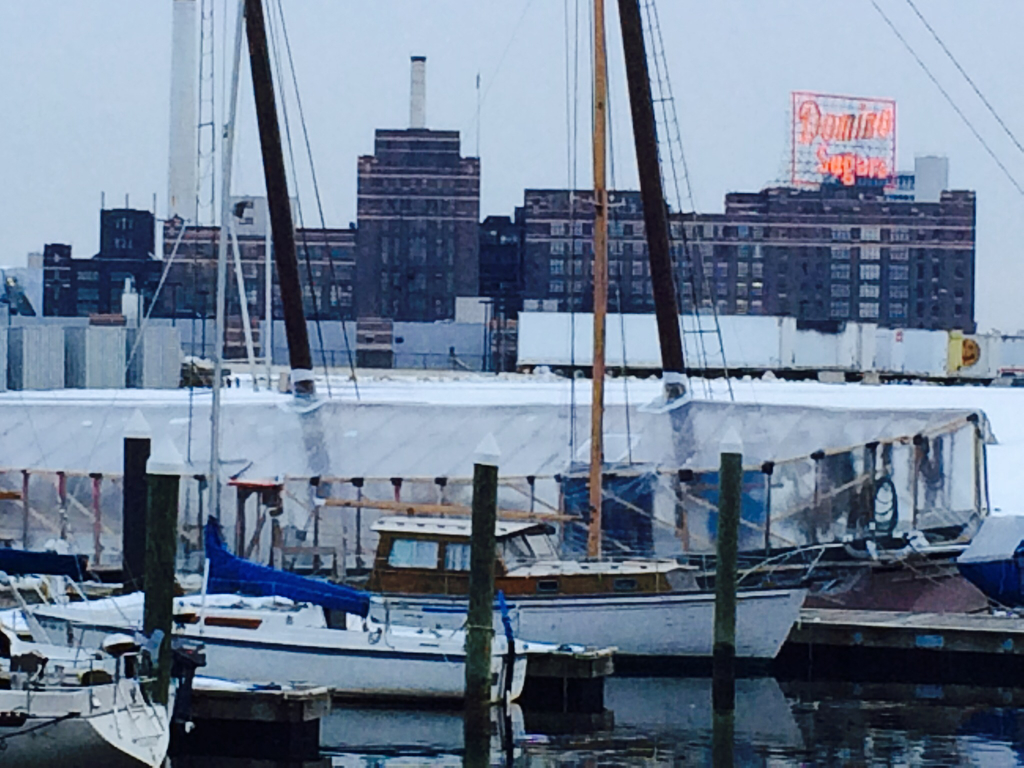boat: (325, 494, 809, 686), (15, 563, 544, 720)
